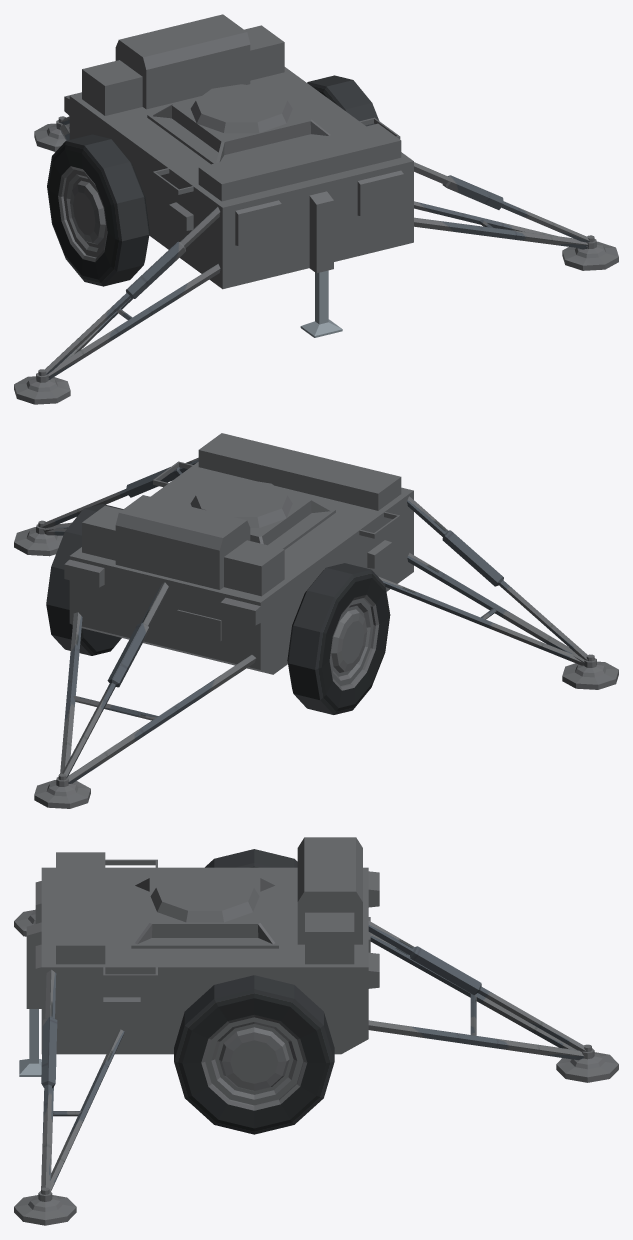
Rendered from SM_Prop_Mobile_Radar_01.glb.
3 renders of one model, top to bottom at view 1: azimuth 30°, elevation 25°; view 2: azimuth 150°, elevation 25°; view 3: azimuth 270°, elevation 25°, orthographic. The views are drawn at different scales.
Visible parts, largest first — view 1: SM_Prop_Mobile_Radar_01; view 2: SM_Prop_Mobile_Radar_01; view 3: SM_Prop_Mobile_Radar_01.
Part boxes in pixels (x1,y1,x2,y2): SM_Prop_Mobile_Radar_01: (14, 14, 618, 404); SM_Prop_Mobile_Radar_01: (14, 433, 618, 808); SM_Prop_Mobile_Radar_01: (14, 837, 618, 1225).
Size of the model in its own units: 4.92 by 1.51 by 4.03.
Materials: 1 (1 with a texture image).
